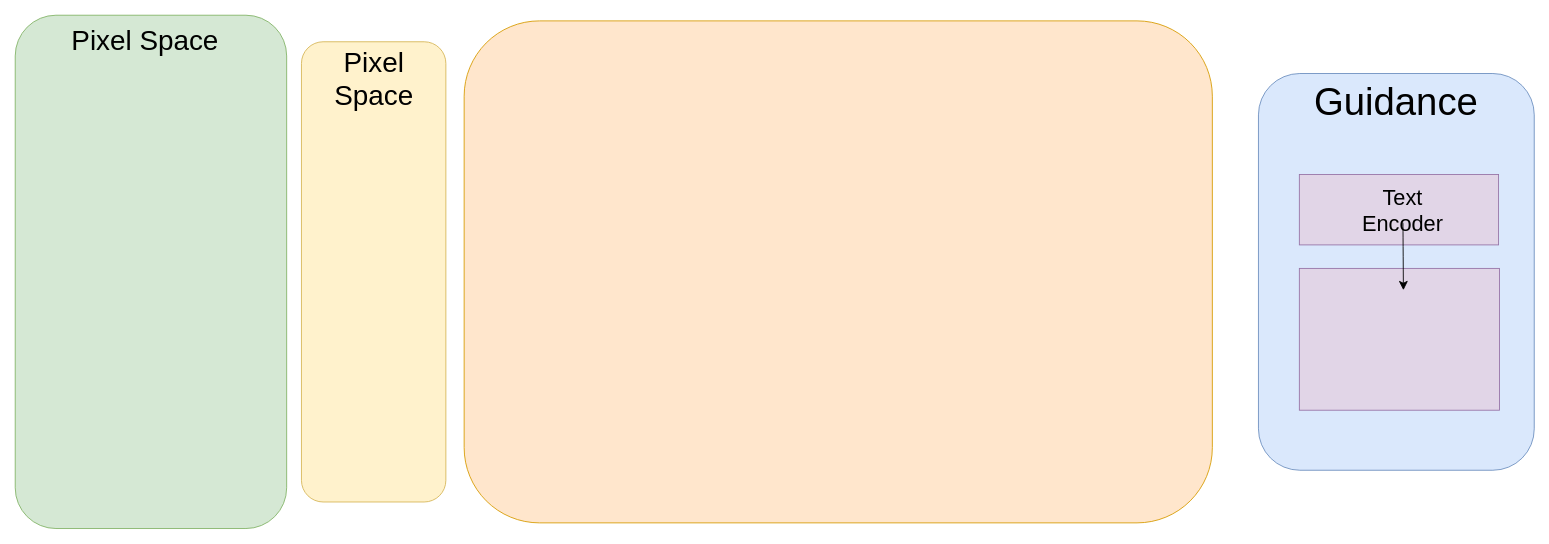
Some shapes in this 1549 by 544 pixel diagram are drawn without their labels. The shapes that lost their labels are listed below. From the top down, each one's box as (x1, y1, x2, y2) in pixels, then its label:
(463, 20, 1212, 523): Latent space
(1298, 268, 1499, 410): Sketch Encoder
